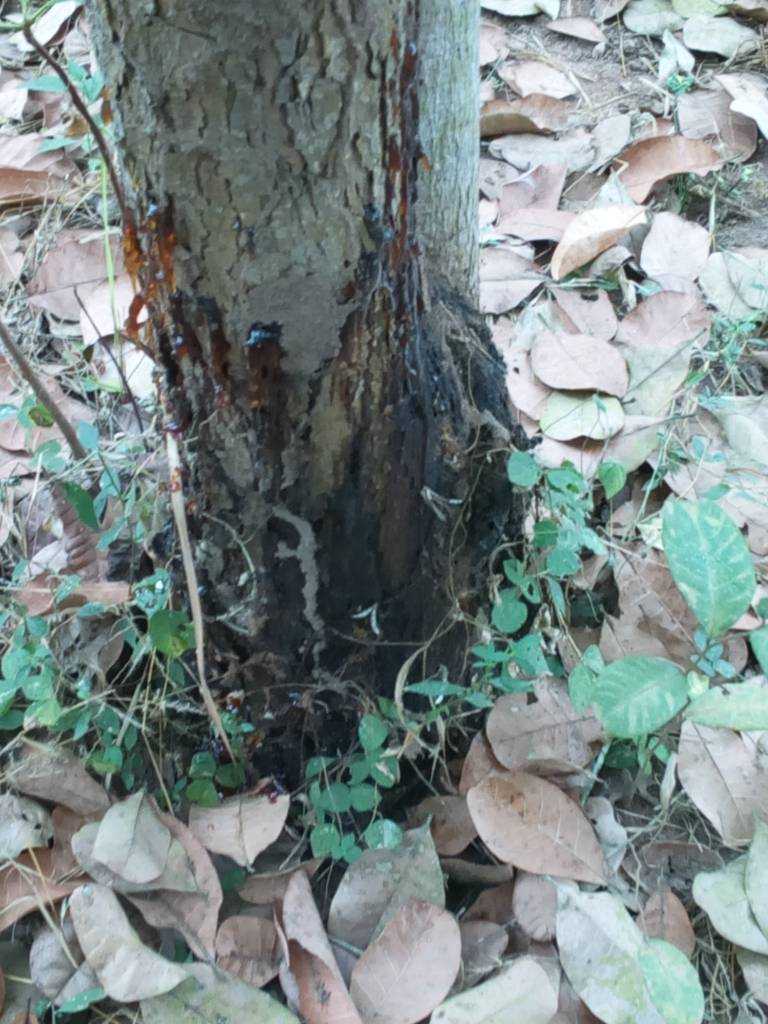Gommose: (144, 194, 500, 736)
